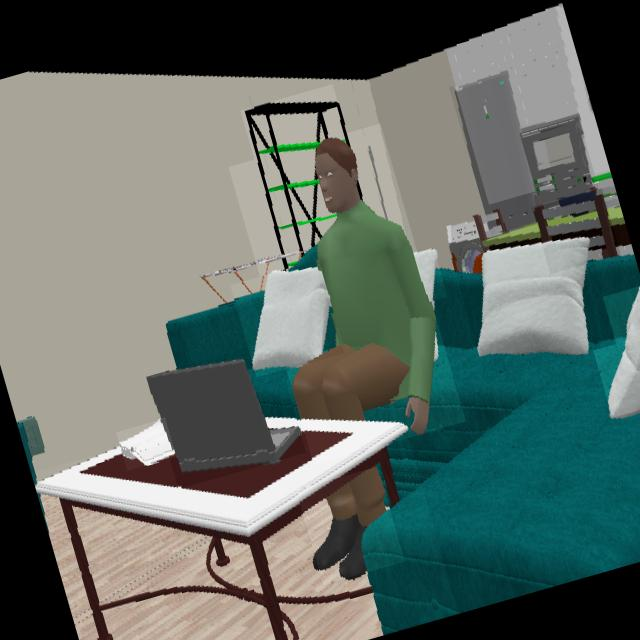book: (120, 419, 174, 465)
cabinet: (446, 5, 610, 173)
chair: (535, 194, 618, 257)
fridge: (456, 71, 537, 227)
laptop: (147, 361, 300, 473)
microwave: (523, 117, 589, 199)
person: (293, 139, 436, 433), (315, 468, 385, 576)
pillow: (479, 238, 590, 353), (254, 268, 331, 370), (610, 291, 640, 415), (414, 250, 436, 300)
shelf: (245, 102, 349, 255)
table: (35, 418, 405, 640)
